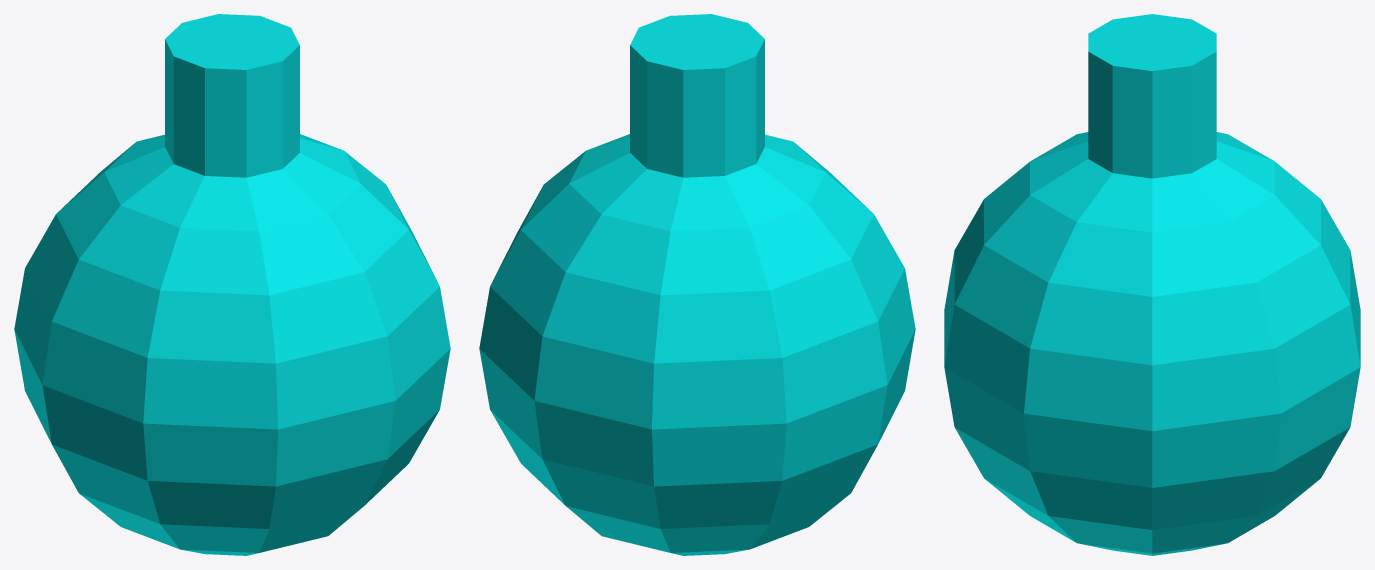
The model's file is granadaGelo.fbx.
The picture shows the model from 3 angles, left to right: view 1: azimuth 30°, elevation 25°; view 2: azimuth 150°, elevation 25°; view 3: azimuth 270°, elevation 25°; orthographic projection.
Parts seen in each view (by area): view 1: pSphere1; view 2: pSphere1; view 3: pSphere1.
Part boxes in pixels (x1,y1,x2,y2): pSphere1: (14, 14, 450, 555); pSphere1: (479, 14, 915, 555); pSphere1: (944, 14, 1360, 555).
Bounding box in the file's own units: 2 × 2.44 × 1.9.
